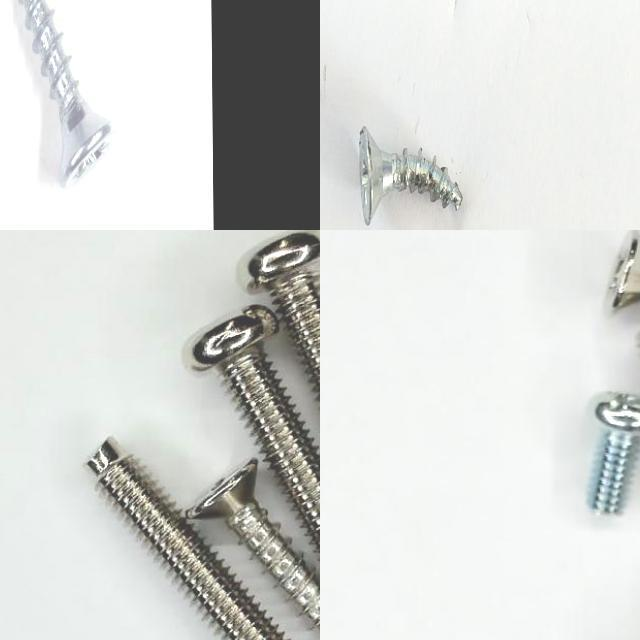Screw: (87, 441, 286, 640), (188, 306, 320, 553), (185, 459, 320, 629), (19, 0, 118, 188), (247, 230, 320, 397), (359, 125, 463, 224), (591, 393, 640, 514)
